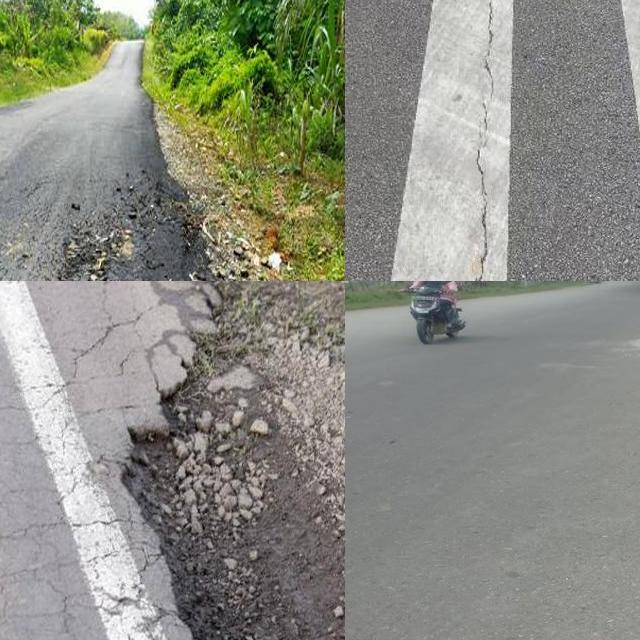Memanjang: (464, 0, 506, 281)
Pinggir: (62, 281, 345, 640), (140, 152, 285, 281)
